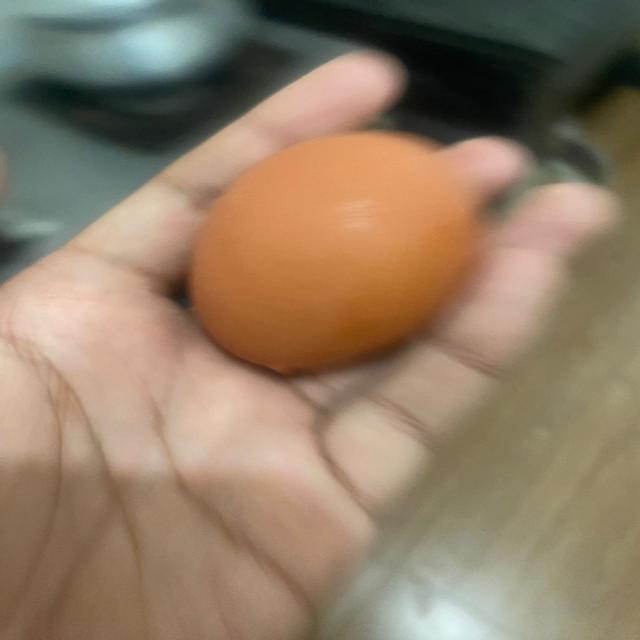egg: (170, 124, 486, 379)
